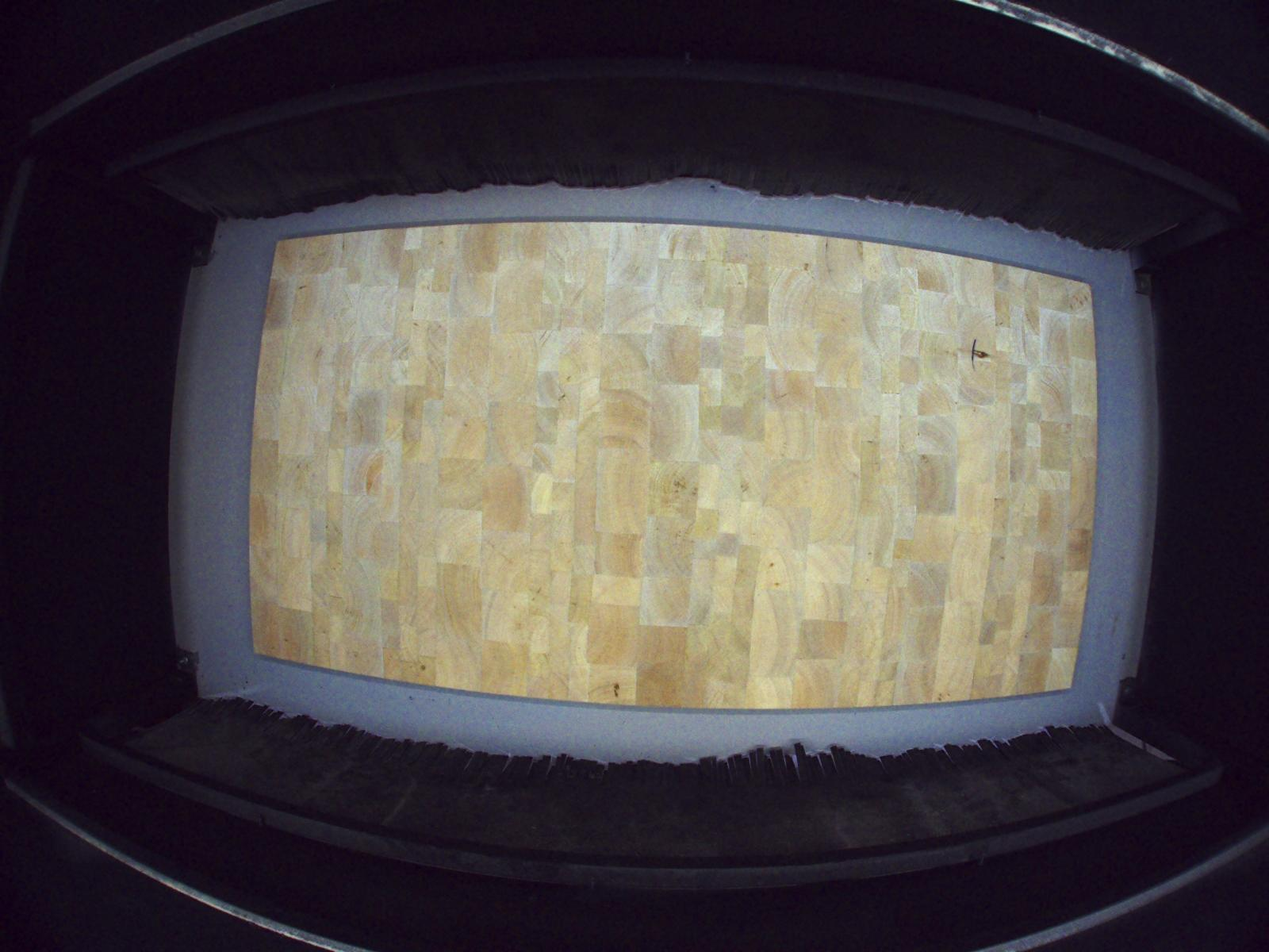sheck_ecuatoriano: (971, 337, 992, 373)
